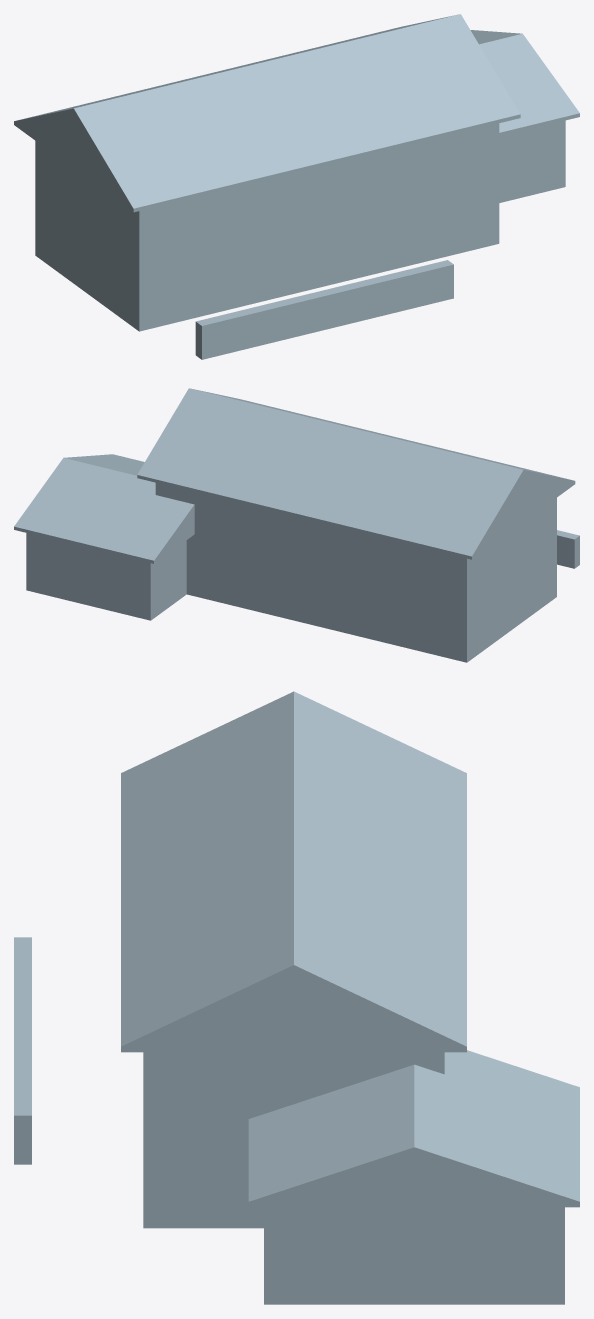
The model's file is bo_ryokan.fbx.
The picture shows the model from 3 angles, top to bottom: view 1: azimuth 30°, elevation 25°; view 2: azimuth 150°, elevation 25°; view 3: azimuth 270°, elevation 25°; orthographic projection. The views are drawn at different scales.
Visible parts, largest first — view 1: bo_ryokan; view 2: bo_ryokan; view 3: bo_ryokan.
Part boxes in pixels (x1,y1,x2,y2): bo_ryokan: (14,14,579,359); bo_ryokan: (14,388,579,662); bo_ryokan: (14,691,579,1304).
Bounding box in the file's own units: 27.25 × 10 × 18.8.
1 material, 1 textured.
